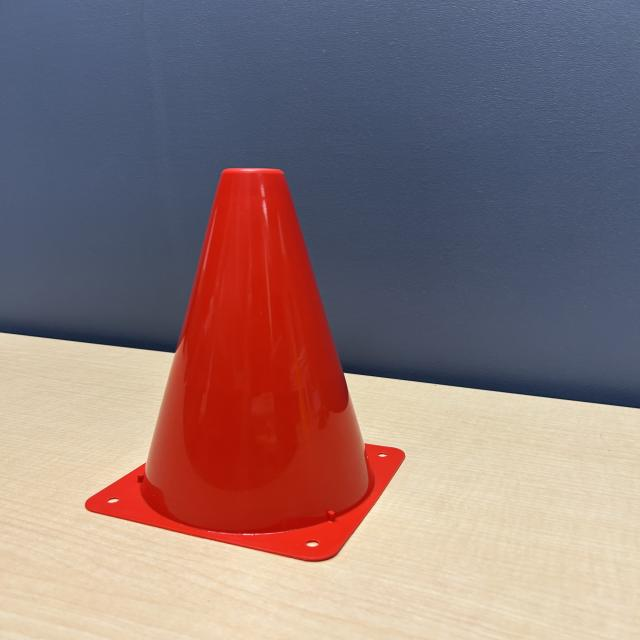orange cone: (82, 164, 406, 567)
